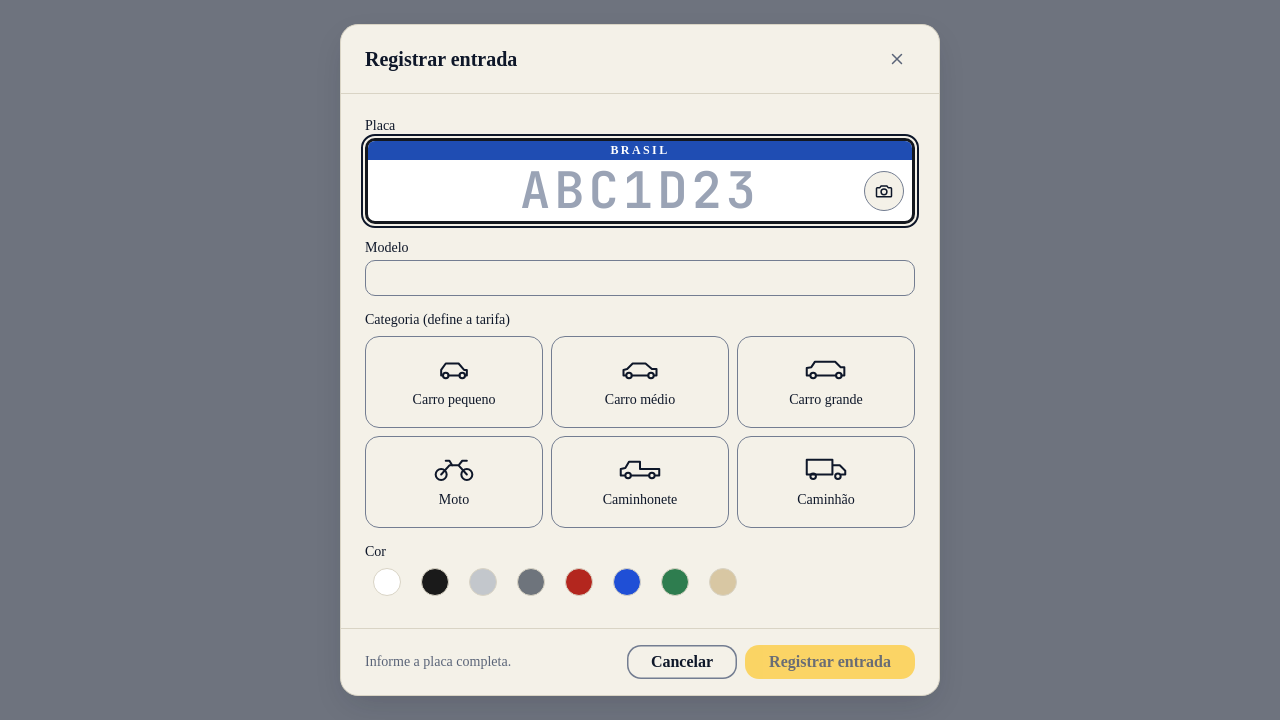
it: EntradaVeiculoModal › mostra como texto a cor do cadastro que não é da lista, sem escolher outra no lugar
Step 1. Type "abc1d23" into the field labelled "Placa" → point(640, 191), box [368,160,912,221]
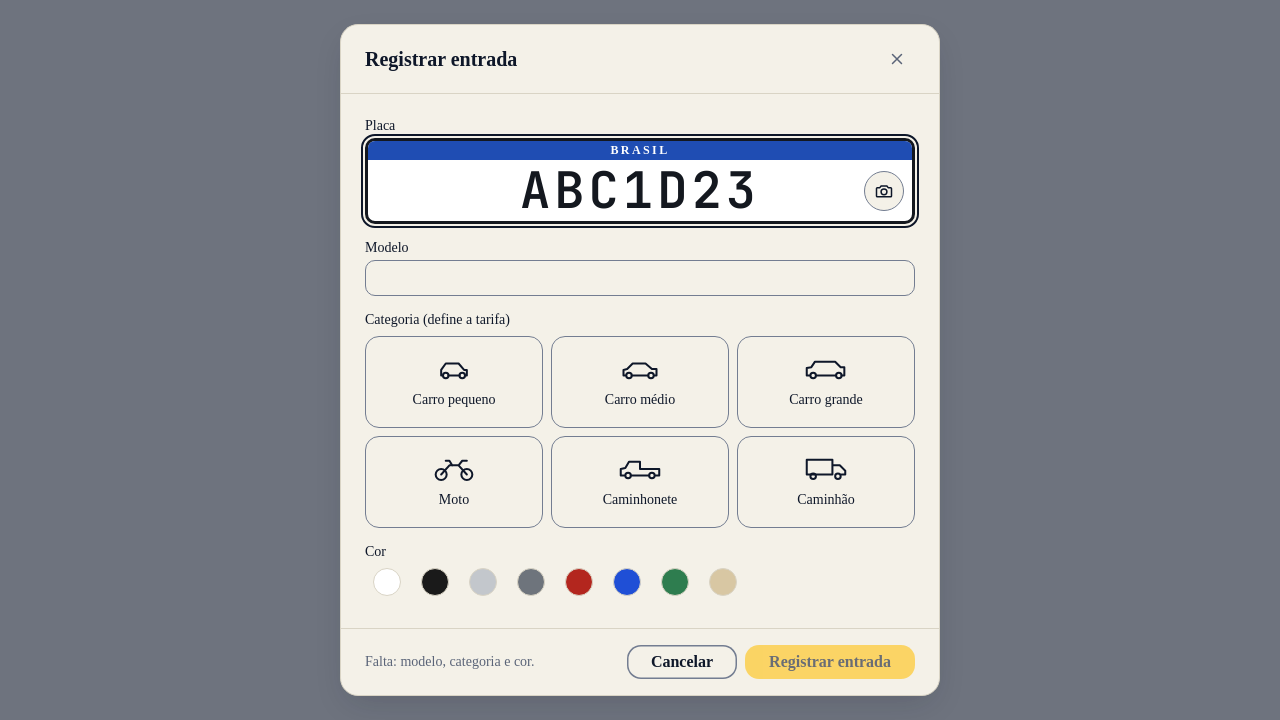
Step 2. Press Tab
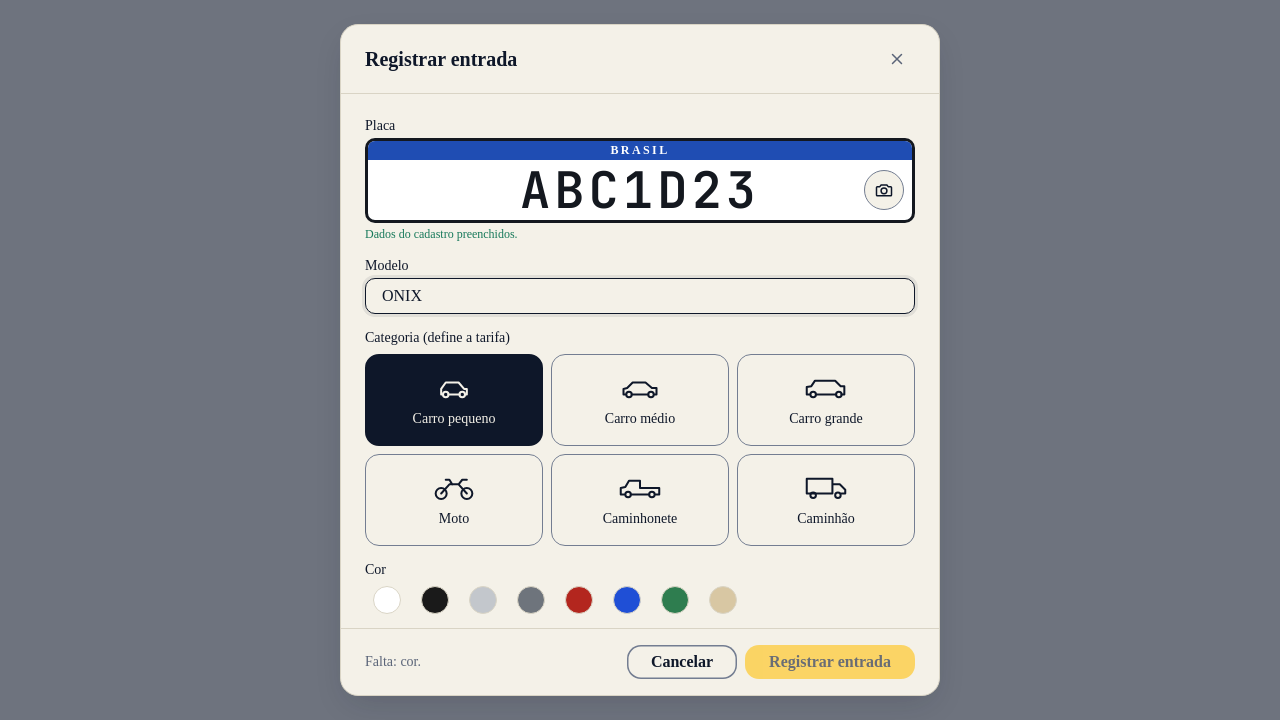
Expected: the radio button named "Prata" is not checked, [469,586,497,614]
Result: the text "Dados do cadastro preenchidos." is shown at [365,228,518,242]
